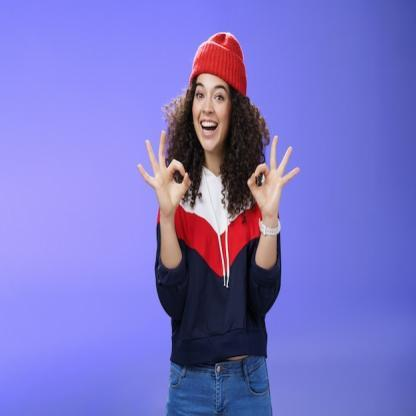ok: (137, 128, 193, 215), (247, 132, 300, 216)
